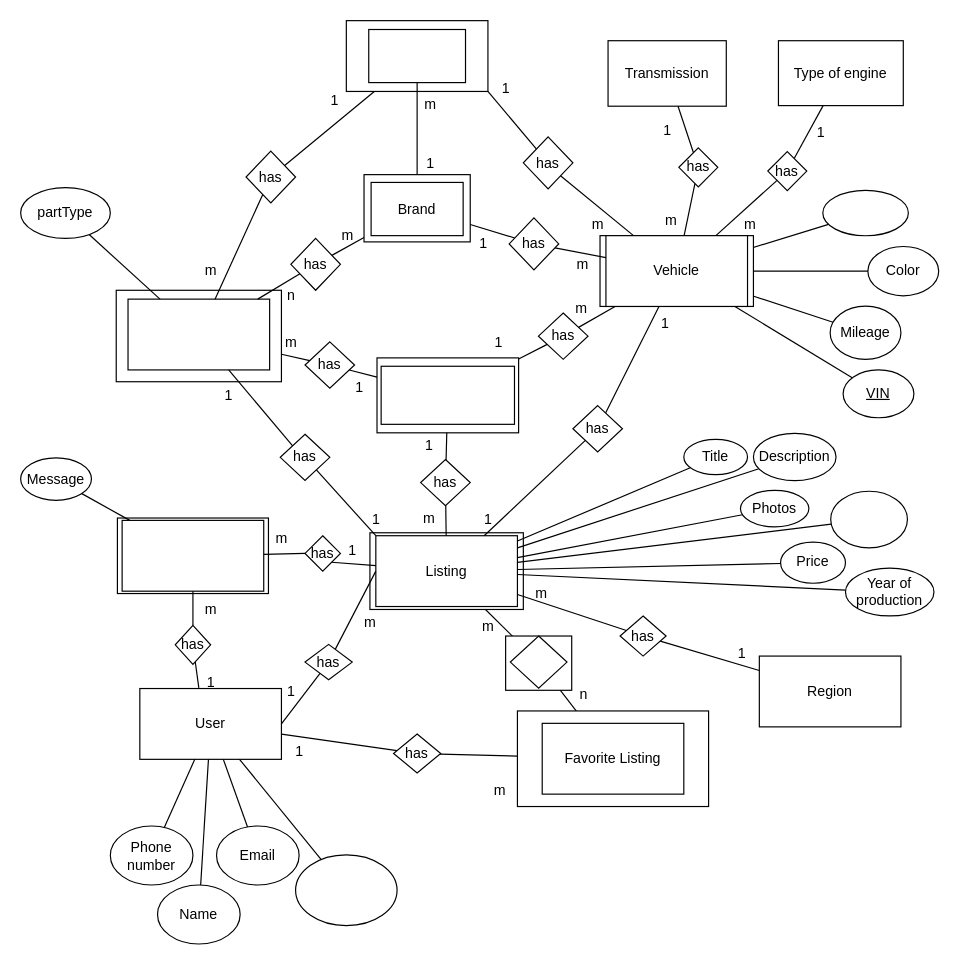
The diagram is 959 pixels wide and 965 high, and some of its shapes have lost their labels. Here are the shapes that lost their labels. From the top down, the box of each, then its label:
(368, 28, 466, 83): Model
(822, 189, 908, 236): Power
(127, 298, 270, 370): Car part
(380, 365, 514, 424): Category
(830, 490, 907, 548): Usage status
(121, 519, 264, 591): Ask
(509, 635, 567, 688): can be
(294, 854, 397, 926): listingsCounter
